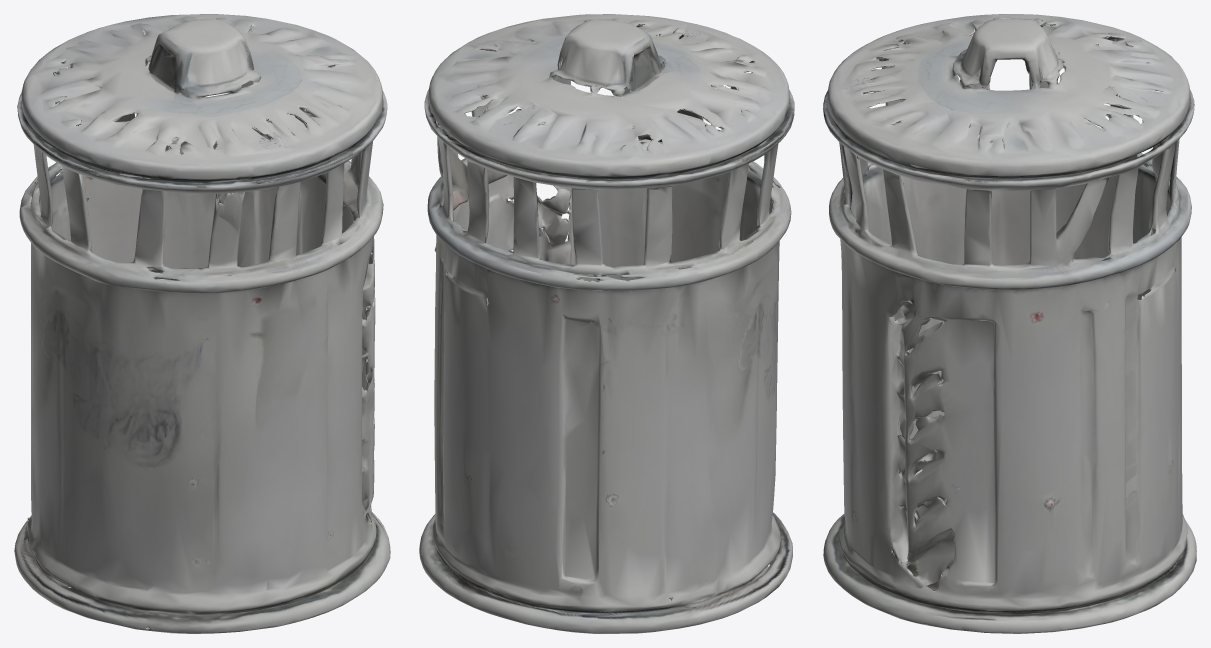
File: plaza-trash-can.glb
3 renders of one model, left to right at view 1: azimuth 30°, elevation 25°; view 2: azimuth 150°, elevation 25°; view 3: azimuth 270°, elevation 25°, orthographic.
Parts seen in each view (by area): view 1: tripo_node_ddab2d38-59c6-4452-837a-c741114d337c; view 2: tripo_node_ddab2d38-59c6-4452-837a-c741114d337c; view 3: tripo_node_ddab2d38-59c6-4452-837a-c741114d337c.
Boxes of the visible parts, x1,y1,x2,y2 form: tripo_node_ddab2d38-59c6-4452-837a-c741114d337c: [14, 14, 390, 633]; tripo_node_ddab2d38-59c6-4452-837a-c741114d337c: [419, 14, 794, 633]; tripo_node_ddab2d38-59c6-4452-837a-c741114d337c: [823, 14, 1196, 633].
Bounding box in the file's own units: 0.6478 × 0.9999 × 0.642.
1 material, 1 textured.
